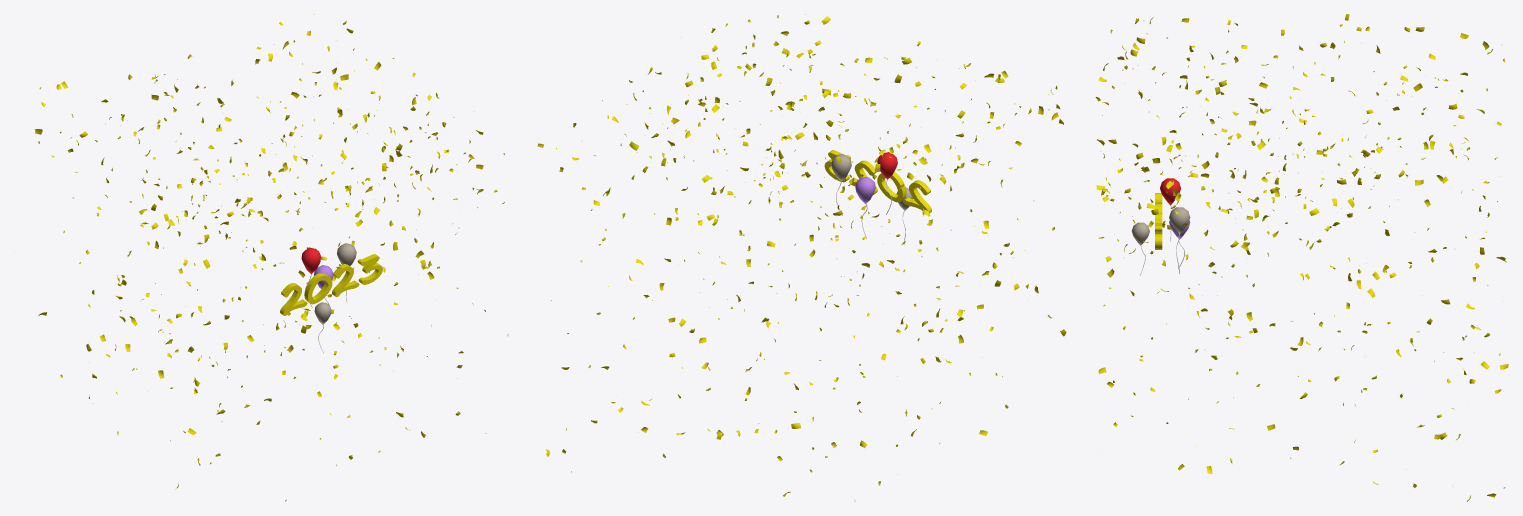
3 renders of one model, left to right at view 1: azimuth 30°, elevation 25°; view 2: azimuth 150°, elevation 25°; view 3: azimuth 270°, elevation 25°, orthographic. The views are drawn at different scales.
Visible parts, largest first — view 1: Particles, Text; view 2: Particles, Text; view 3: Particles.
Part boxes in pixels (x1,y1,x2,y2): Particles: (14,14,508,501); Text: (280,254,382,315); Particles: (537,14,1066,501); Text: (824,150,931,214); Particles: (1095,14,1508,501).
Bounding box in the file's own units: 12.73 × 11.21 × 12.72.
